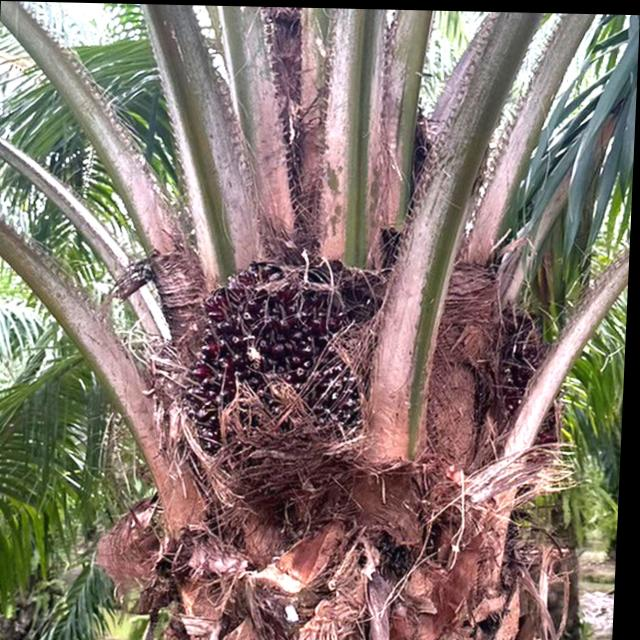ripe: (168, 238, 404, 472)
